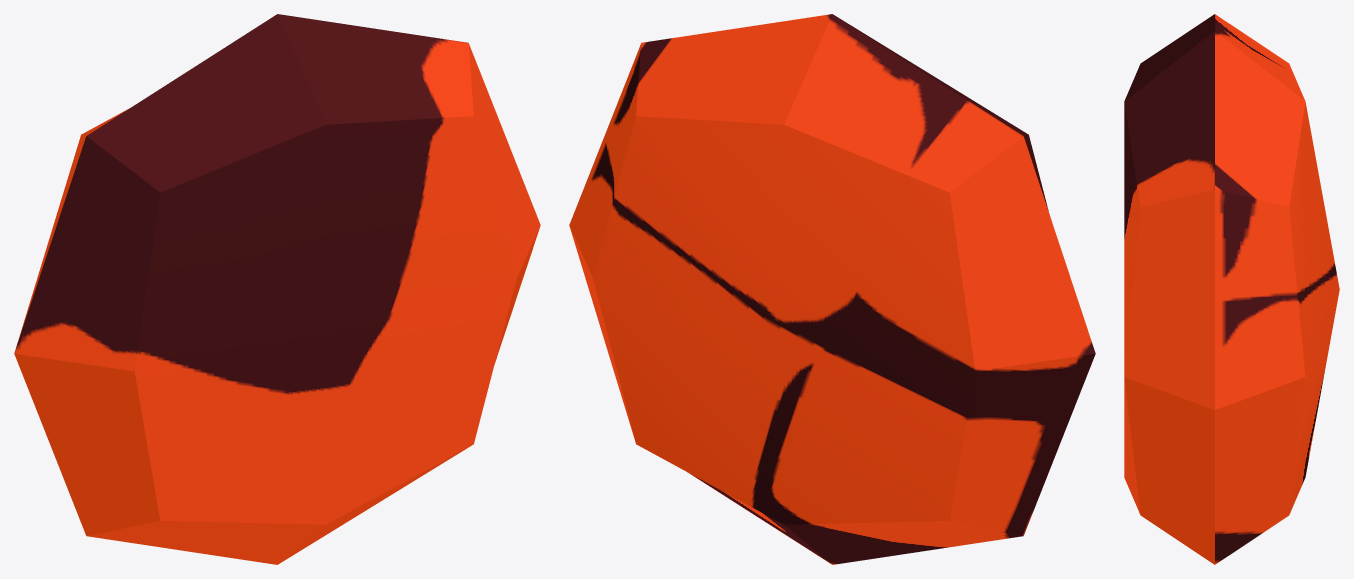
3 renders of one model, left to right at view 1: azimuth 30°, elevation 25°; view 2: azimuth 150°, elevation 25°; view 3: azimuth 270°, elevation 25°, orthographic. The views are drawn at different scales.
Visible parts, largest first — view 1: Cube.005_Baked; view 2: Cube.005_Baked; view 3: Cube.005_Baked.
Boxes of the visible parts, box(x1,y1,x2,y2) form: Cube.005_Baked: box(14, 14, 540, 564); Cube.005_Baked: box(569, 14, 1095, 564); Cube.005_Baked: box(1124, 14, 1339, 564).
Size of the model in its own units: 168 by 168 by 63.37.
